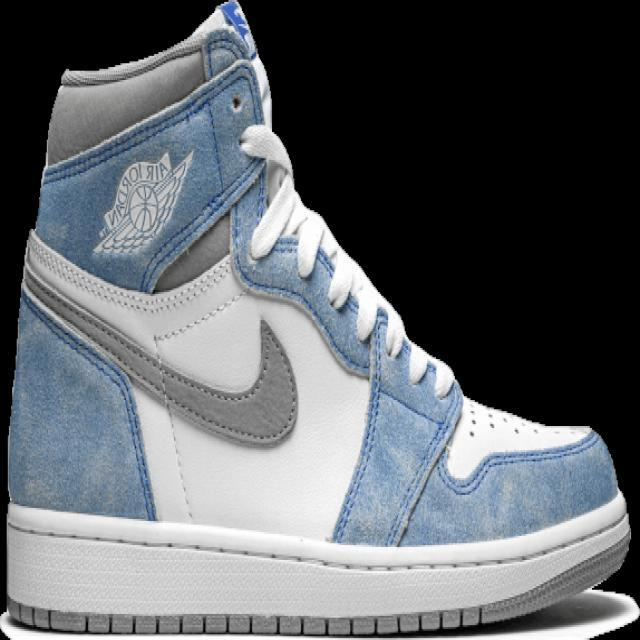J1_InsoleChar: (3, 1, 632, 635)
J1_ShoeLogo: (90, 148, 195, 256)
J1_StitchPattern: (21, 225, 592, 454), (3, 502, 632, 633), (236, 122, 457, 401), (21, 230, 299, 446), (57, 1, 257, 88), (25, 232, 233, 315), (4, 601, 486, 635), (152, 290, 246, 344), (461, 395, 545, 441)
